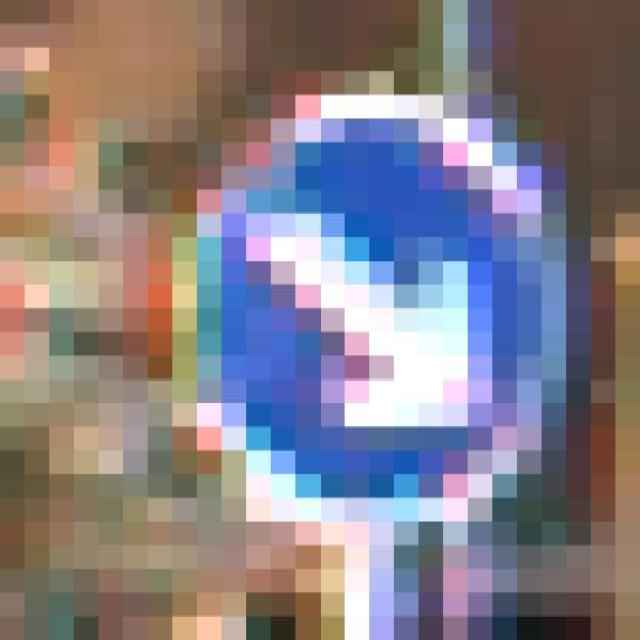Keep-Right: (99, 72, 616, 546)
